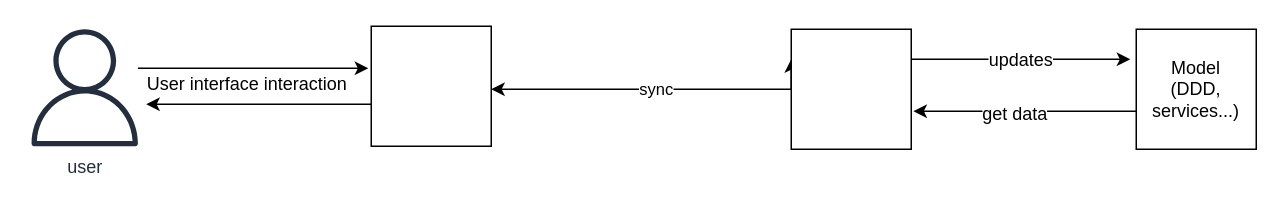
Some shapes in this 1283 by 204 pixel diagram are drawn without their labels. The shapes that lost their labels are listed below. From the top down, each one's centre as x and y in pixels, then its label:
[430,85]: View
[850,88]: View Model
